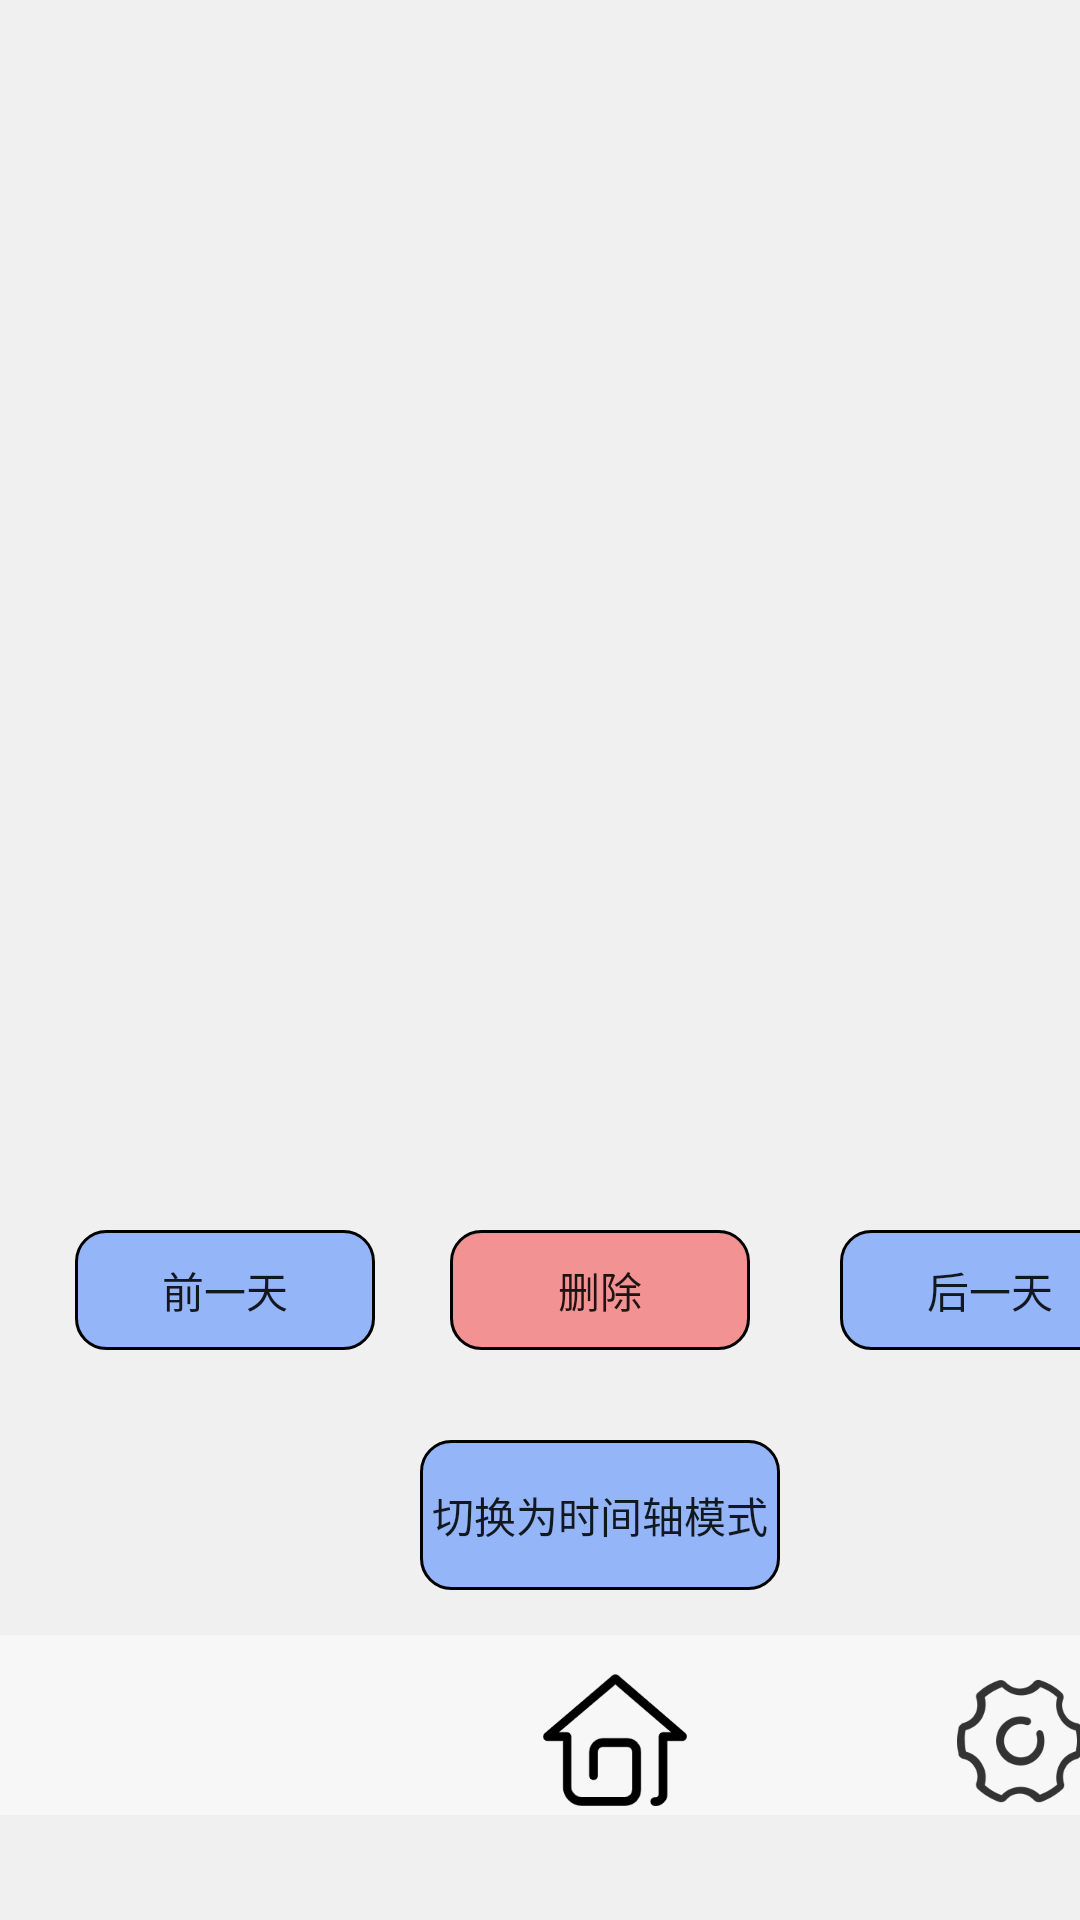

Named icons in this screenshot (1080 × 1920) and their bounding boxes, rect(x1, y1, x2, y2):
shezhi: rect(957, 1680, 1080, 1803)
zhuye: rect(543, 1674, 687, 1806)
